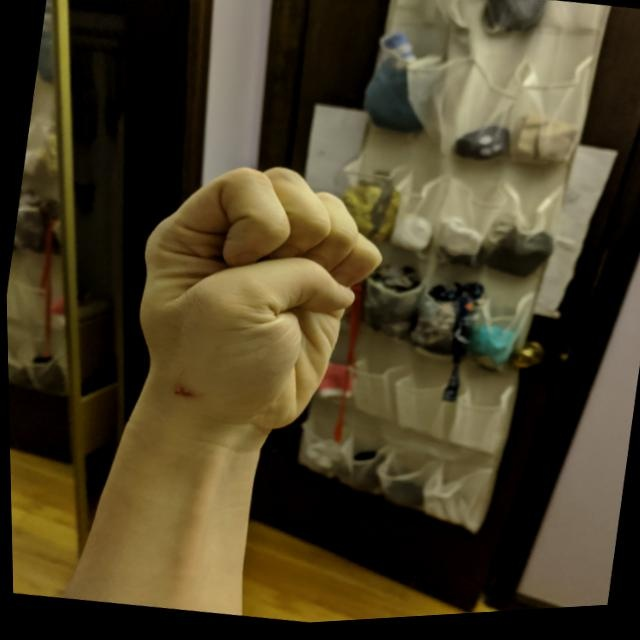E: (106, 140, 406, 465)
